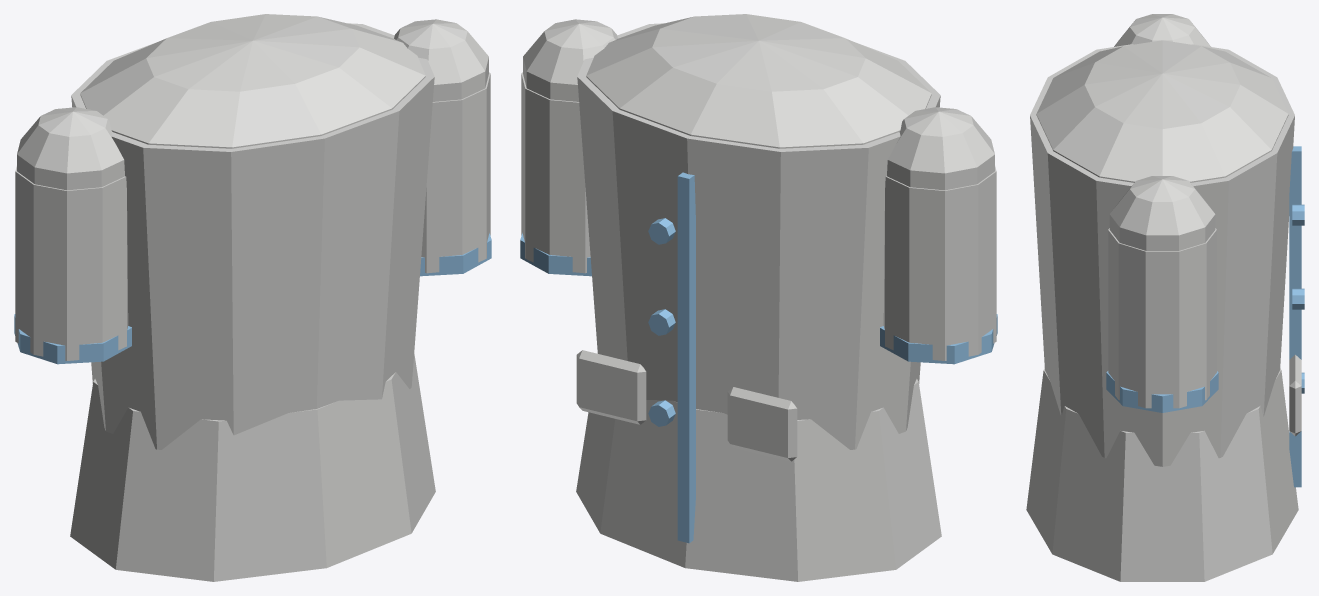
Rendered from jacket_seller_robe.glb.
3 renders of one model, left to right at view 1: azimuth 30°, elevation 25°; view 2: azimuth 150°, elevation 25°; view 3: azimuth 270°, elevation 25°, orthographic. The views are drawn at different scales.
Visible parts, largest first — view 1: Torso, ArmL, ArmR; view 2: Torso, ArmL, ArmR; view 3: Torso, ArmR, ArmL.
Part boxes in pixels (<box>): Torso: <box>70,14,435,581</box>; ArmL: <box>14,107,131,364</box>; ArmR: <box>394,19,491,276</box>; Torso: <box>576,14,941,581</box>; ArmL: <box>880,107,997,364</box>; ArmR: <box>520,19,617,276</box>; Torso: <box>1026,40,1304,581</box>; ArmR: <box>1106,176,1218,412</box>; ArmL: <box>1114,14,1210,46</box>.
Bounding box in the file's own units: 0.802 × 0.7794 × 0.4504.
